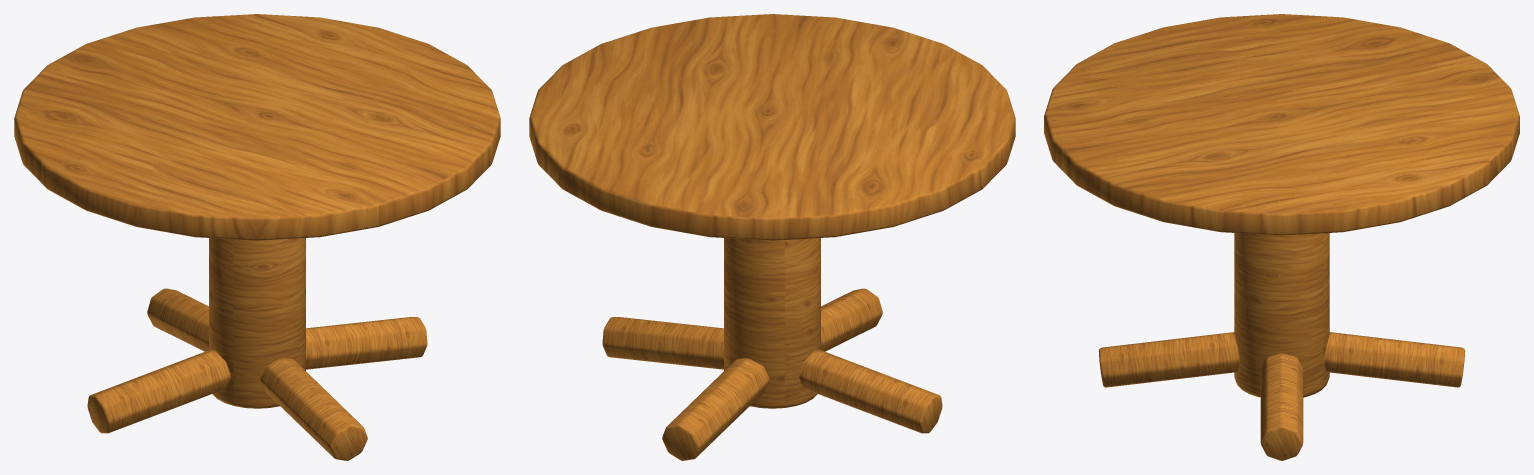
The model's file is pedestal-dining-table.glb.
3 renders of one model, left to right at view 1: azimuth 30°, elevation 25°; view 2: azimuth 150°, elevation 25°; view 3: azimuth 270°, elevation 25°, orthographic. The views are drawn at different scales.
Parts seen in each view (by area): view 1: pedestal-dining-table; view 2: pedestal-dining-table; view 3: pedestal-dining-table.
Boxes of the visible parts, <box> form: pedestal-dining-table: <box>14,14,500,460</box>; pedestal-dining-table: <box>529,14,1015,460</box>; pedestal-dining-table: <box>1044,14,1519,460</box>.
Bounding box in the file's own units: 1.2 × 0.76 × 1.2.
Materials: 1 (1 with a texture image).
